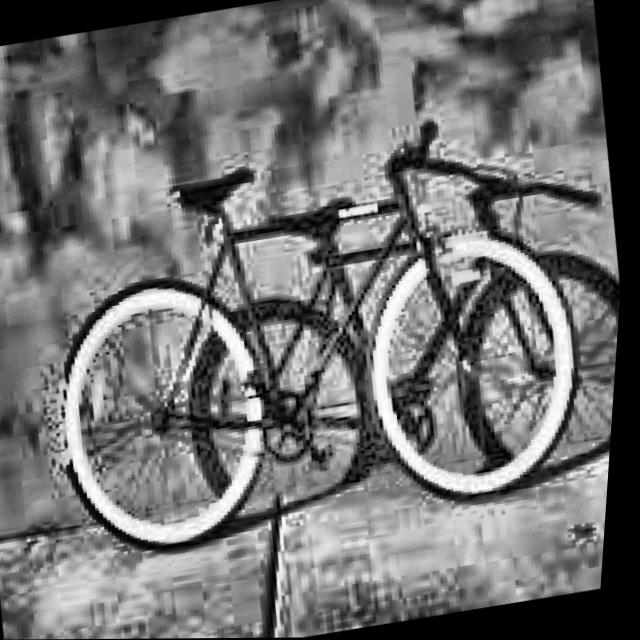bike: (0, 92, 631, 580)
